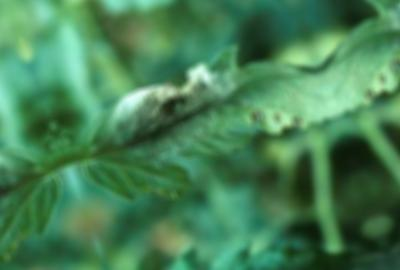Tomato leaf late blight: (54, 3, 342, 221)
